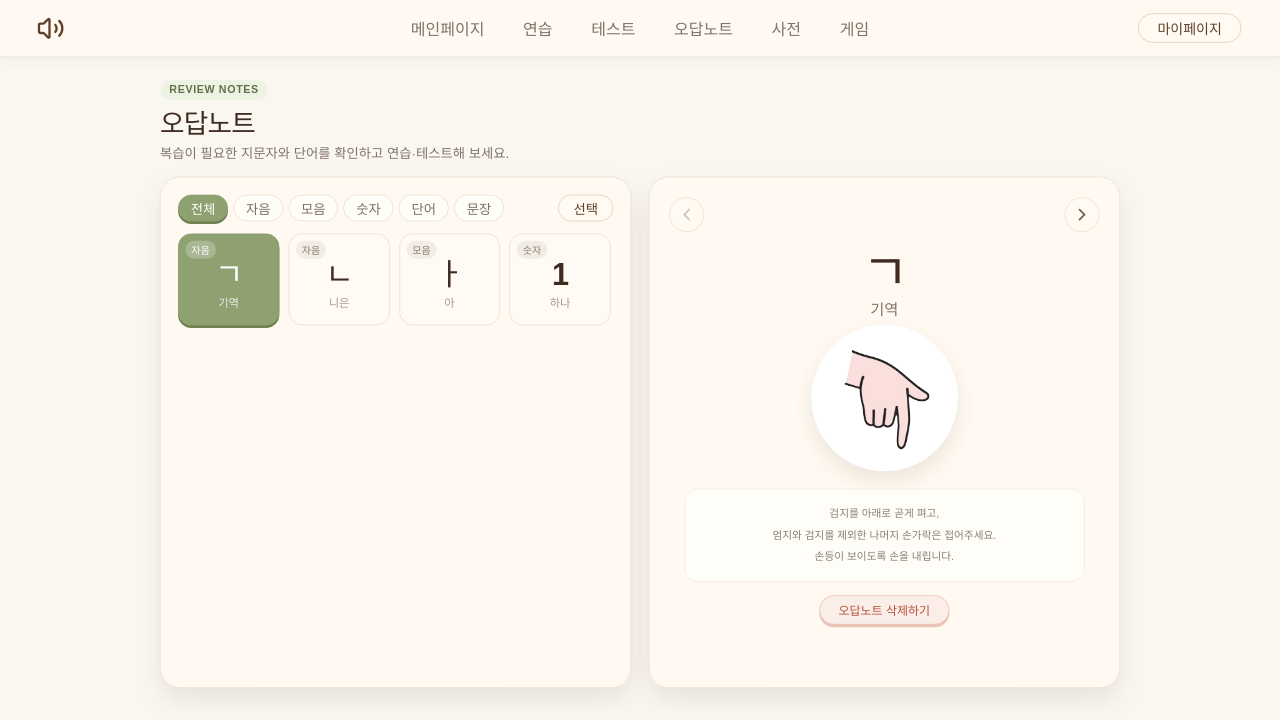
ReviewNotesPage 다중 선택 › 전체 선택은 보이는 카드를 모두 고른다
The width and height of the screenshot is (1280, 720).
Step 1. Click the button "선택" → (586, 208), box [558,195,613,221]
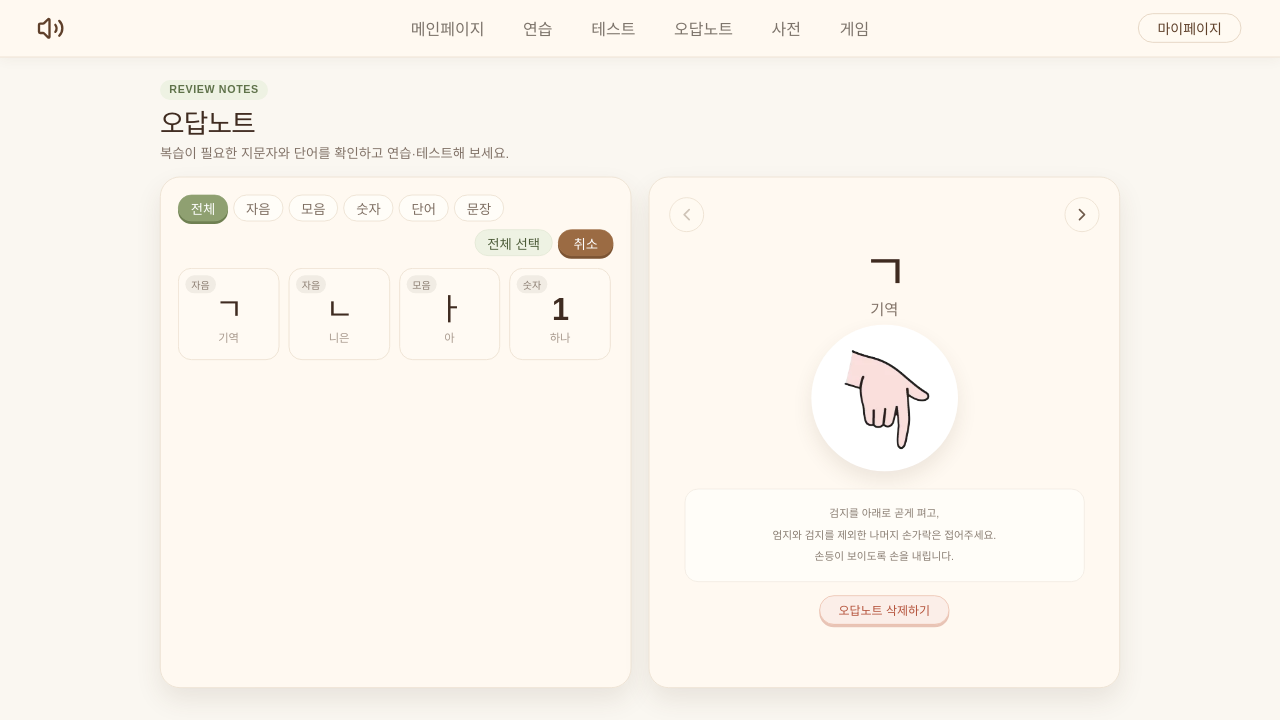
Step 2. Click the button "전체 선택" → (514, 243), box [475,229,553,256]
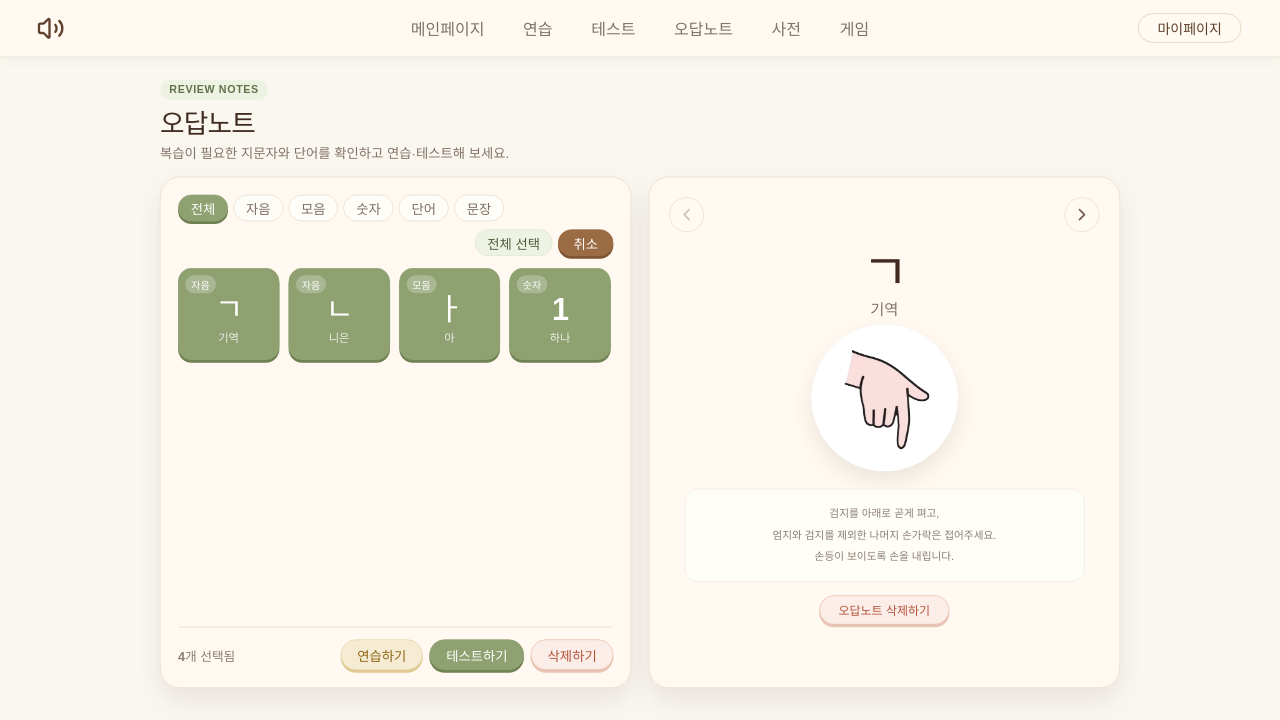
Expected: the text "4개 선택됨" is shown, [178,646,235,664]
